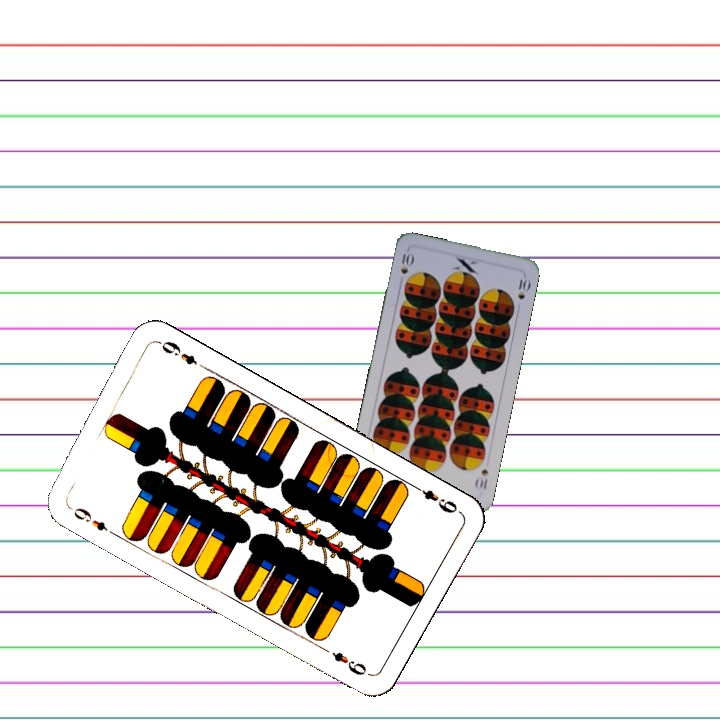E9: (63, 500, 117, 538), (408, 480, 462, 516)
S10: (396, 247, 415, 287), (471, 465, 491, 492)
